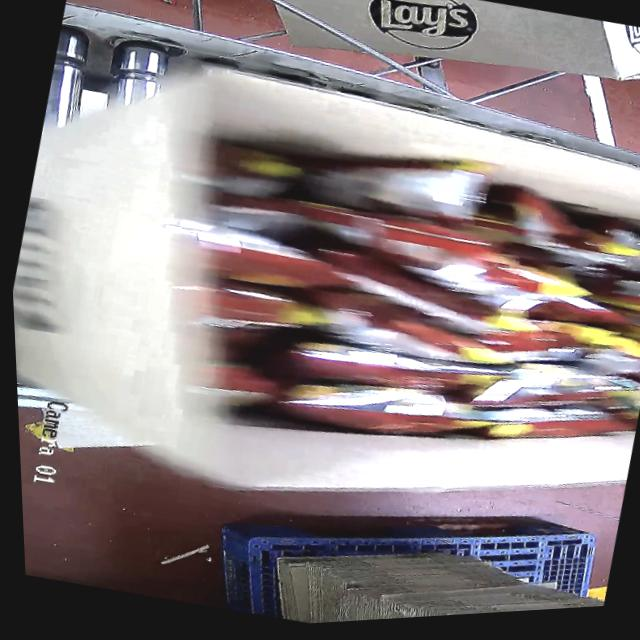MASALA: (119, 91, 640, 512)
